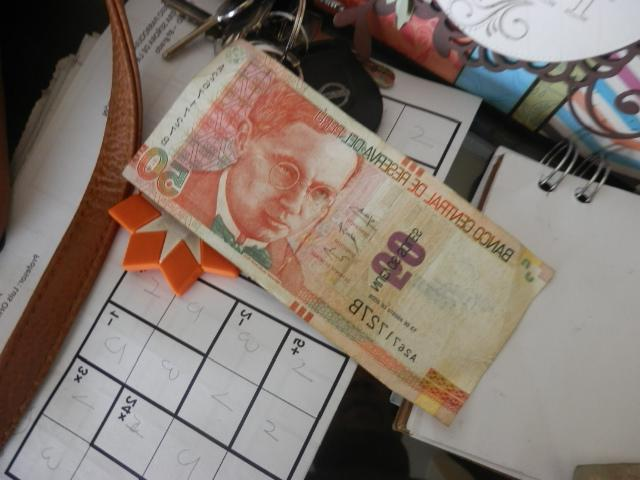B50: (125, 43, 553, 426)
